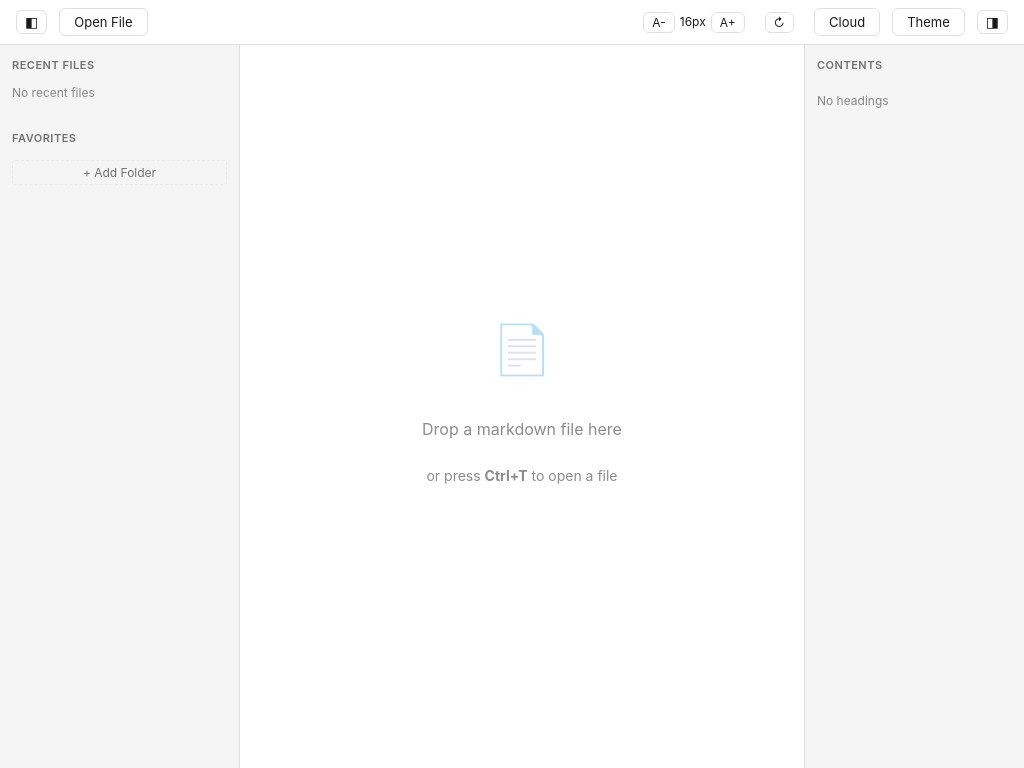
App › increases font size when A+ is clicked
Click the button "A+": (728, 22) [711,12,745,32]
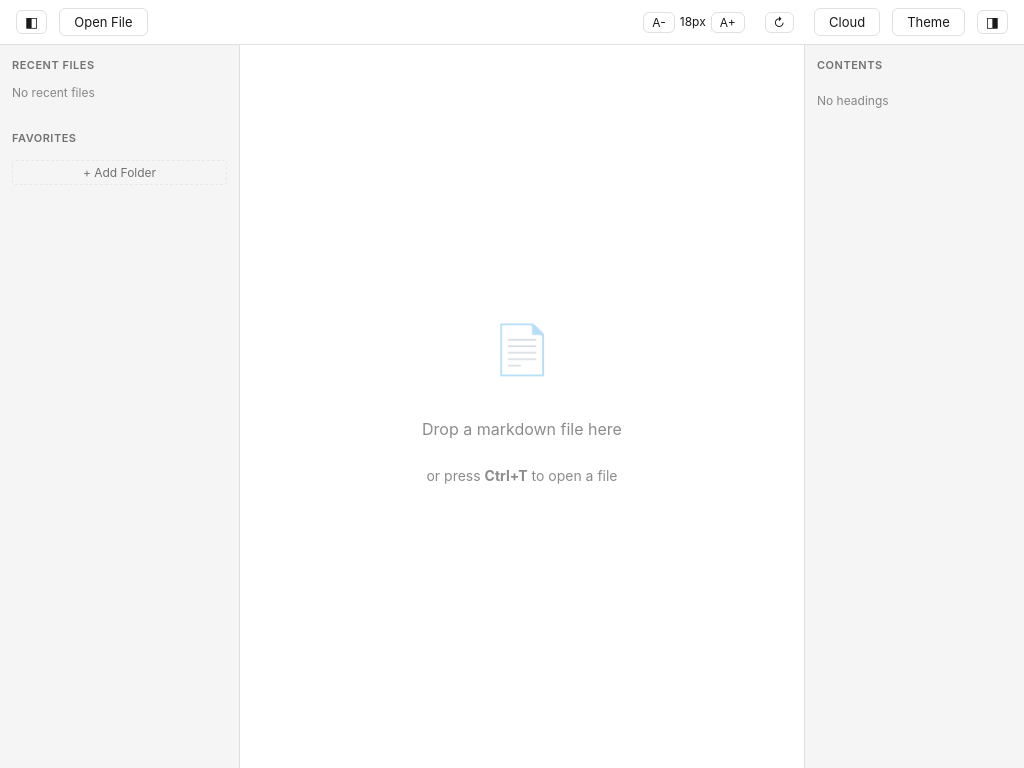
Expected: the text "18px" is shown, [679,13,707,31]
